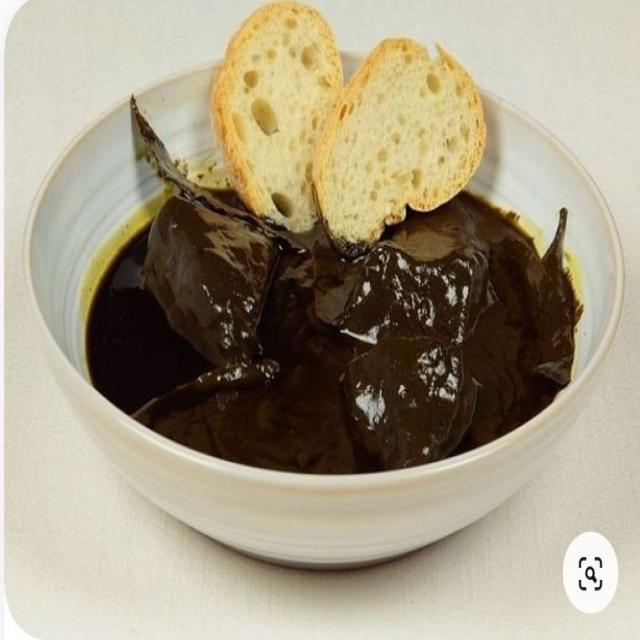Melloukhia: (45, 13, 614, 550)
